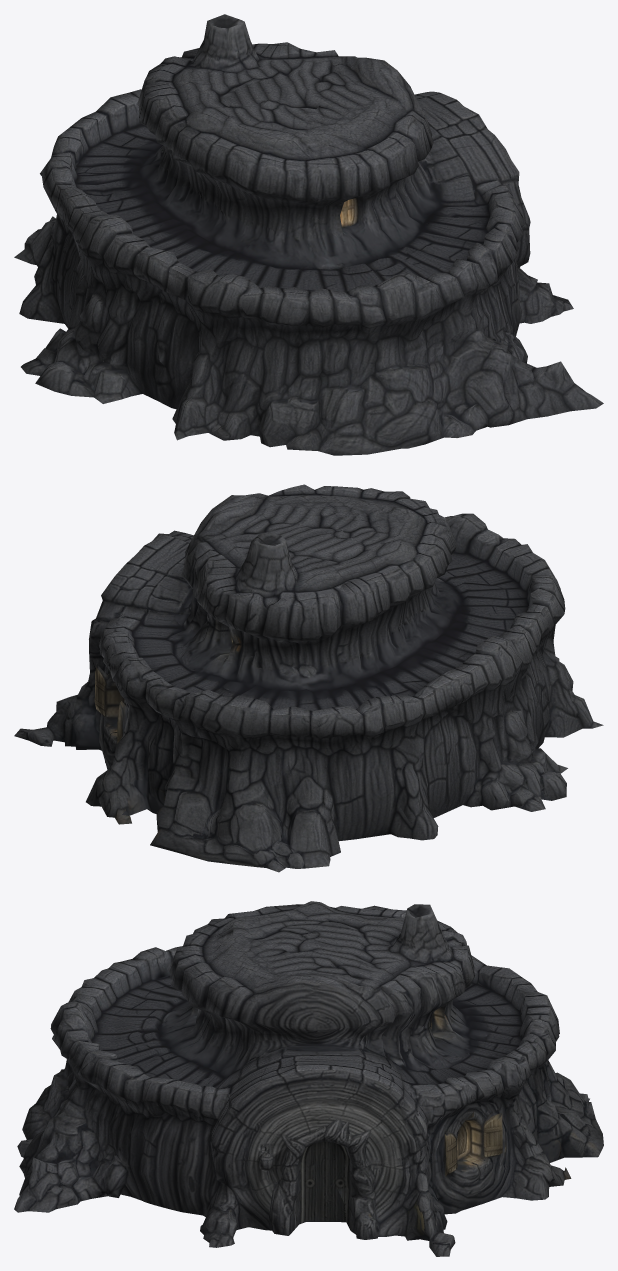
File: Roduro_Drum_5k.glb
3 renders of one model, top to bottom at view 1: azimuth 30°, elevation 25°; view 2: azimuth 150°, elevation 25°; view 3: azimuth 270°, elevation 25°, orthographic. The views are drawn at different scales.
Parts seen in each view (by area): view 1: roduro_drum_home_5k; view 2: roduro_drum_home_5k; view 3: roduro_drum_home_5k.
Boxes of the visible parts, x1,y1,x2,y2 form: roduro_drum_home_5k: (14, 14, 603, 455); roduro_drum_home_5k: (14, 484, 603, 872); roduro_drum_home_5k: (14, 901, 603, 1256).
Size of the model in its own units: 10.25 by 5.02 by 11.41.
1 material, 1 textured.
